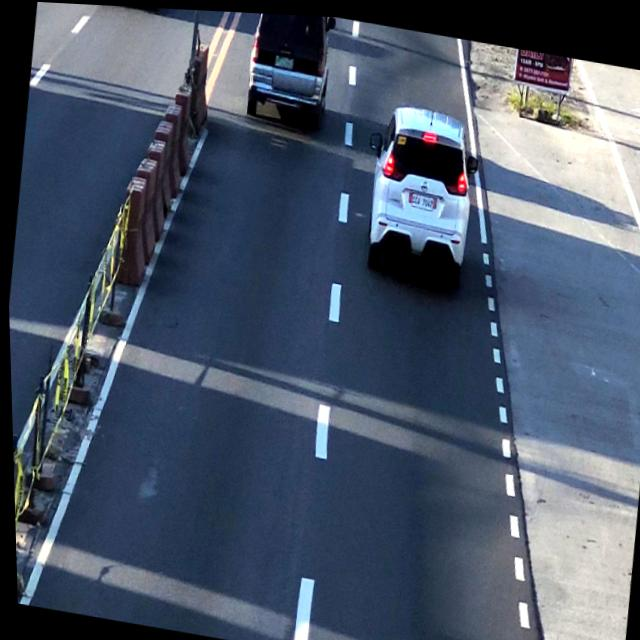Car: (361, 100, 478, 279), (240, 10, 335, 121)
License-Plate: (407, 184, 434, 207), (271, 50, 295, 69)
